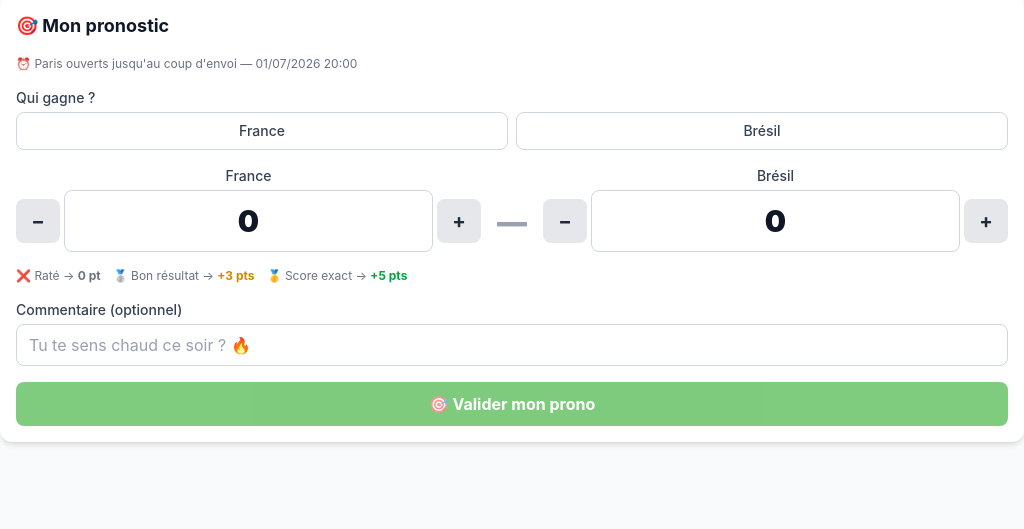
Test: PredictionForm — pari ouvert (canBet=true) › désactive le bouton de validation tant que le pronostic est incomplet
The image size is (1024, 529).
Expected: the button "🎯 Valider mon prono" is disabled, [16, 382, 1008, 426]
Click the button "France": [262, 131] box [16, 112, 508, 150]
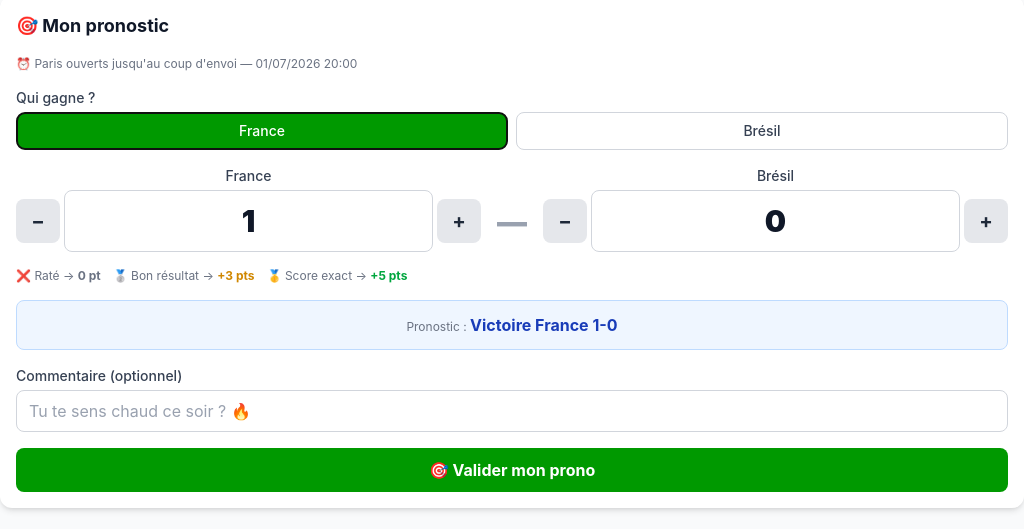
Expected: the button "🎯 Valider mon prono" is enabled, [16, 448, 1008, 492]
